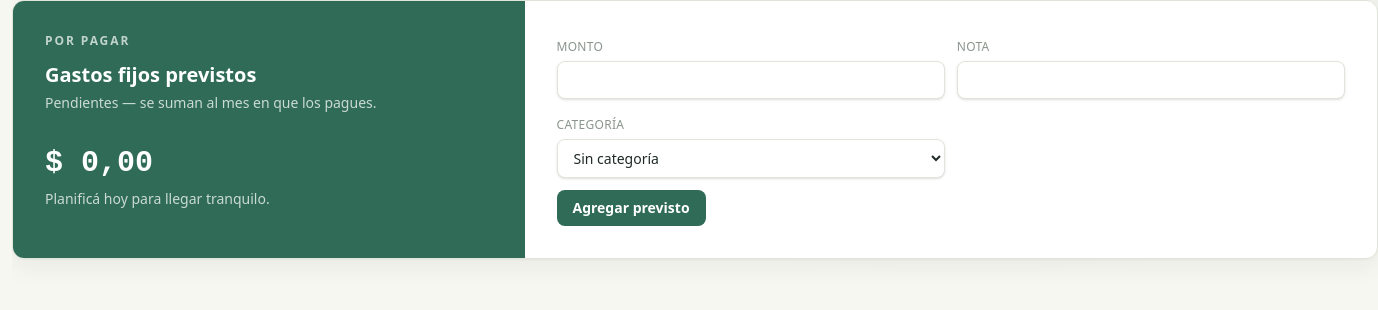
Scenario: PlannedSection › surfaces a Spanish error when the planned creation fails
Type "2500" into the number field labelled "Monto" at (751, 80), box [556, 61, 945, 99]
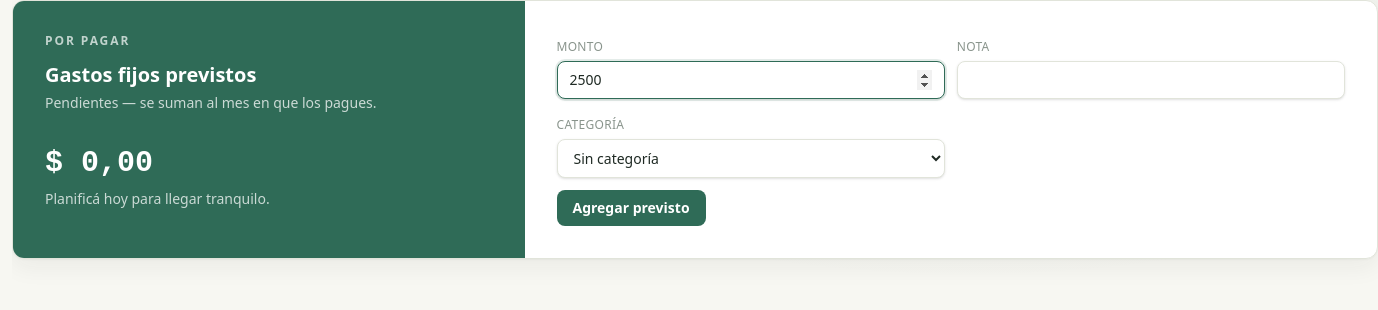
Click the button "Agregar previsto" at (631, 208), box [556, 190, 706, 226]
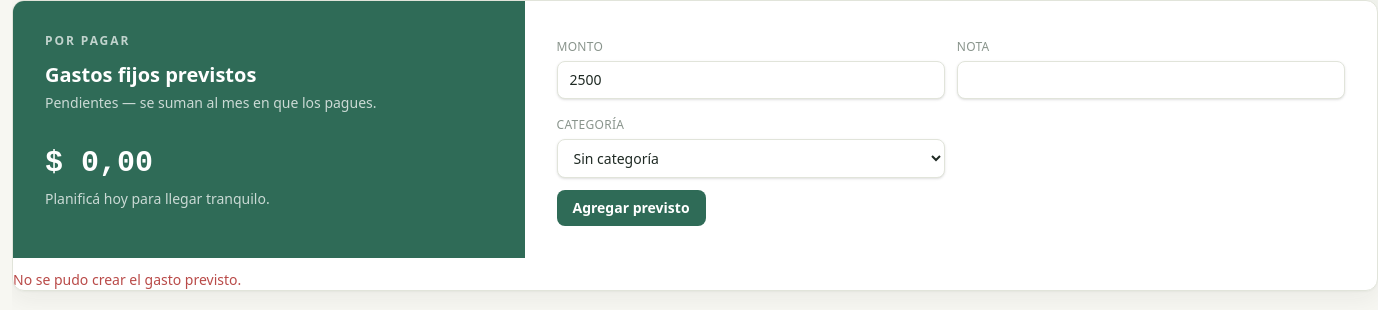
Expected: the message reads "No se pudo crear el gasto previsto.", [13, 270, 241, 289]
